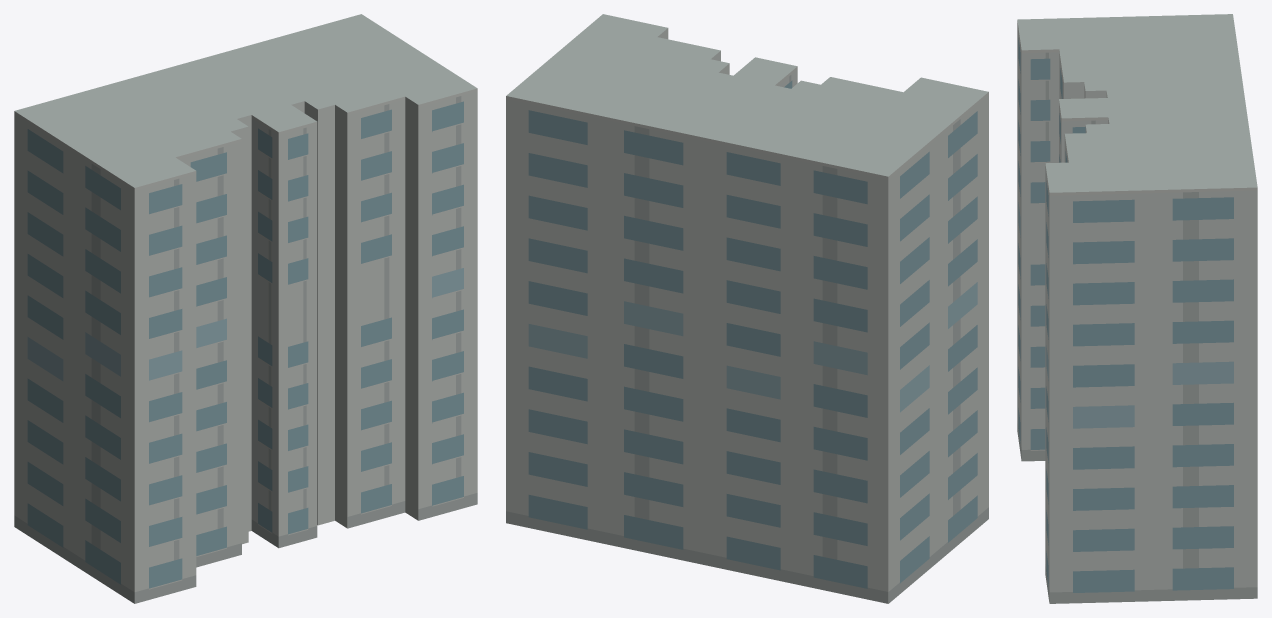
Rendered from residential-10567a7f-4faf-4348-86bd-8437289a3452.glb.
3 views of the same model, side by side, from view 1: azimuth 30°, elevation 25°; view 2: azimuth 150°, elevation 25°; view 3: azimuth 270°, elevation 25° (orthographic). The views are drawn at different scales.
Parts seen in each view (by area): view 1: residential-10567a7f-4faf-4348-86bd-8437289a3452.tmp; view 2: residential-10567a7f-4faf-4348-86bd-8437289a3452.tmp; view 3: residential-10567a7f-4faf-4348-86bd-8437289a3452.tmp.
Boxes of the visible parts, box(x1,y1,x2,y2) form: residential-10567a7f-4faf-4348-86bd-8437289a3452.tmp: box(14, 14, 477, 603); residential-10567a7f-4faf-4348-86bd-8437289a3452.tmp: box(506, 14, 988, 603); residential-10567a7f-4faf-4348-86bd-8437289a3452.tmp: box(1017, 14, 1257, 603).
Bounding box in the file's own units: 31.72 × 34 × 18.02.
